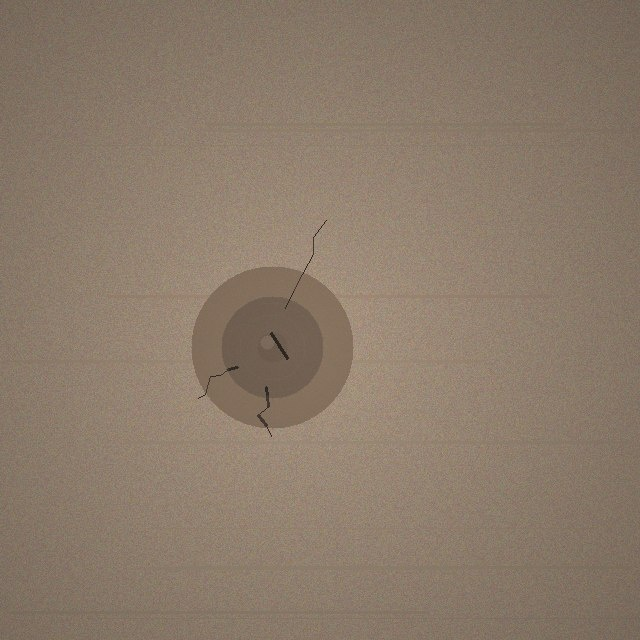crack: (191, 266, 353, 428)
